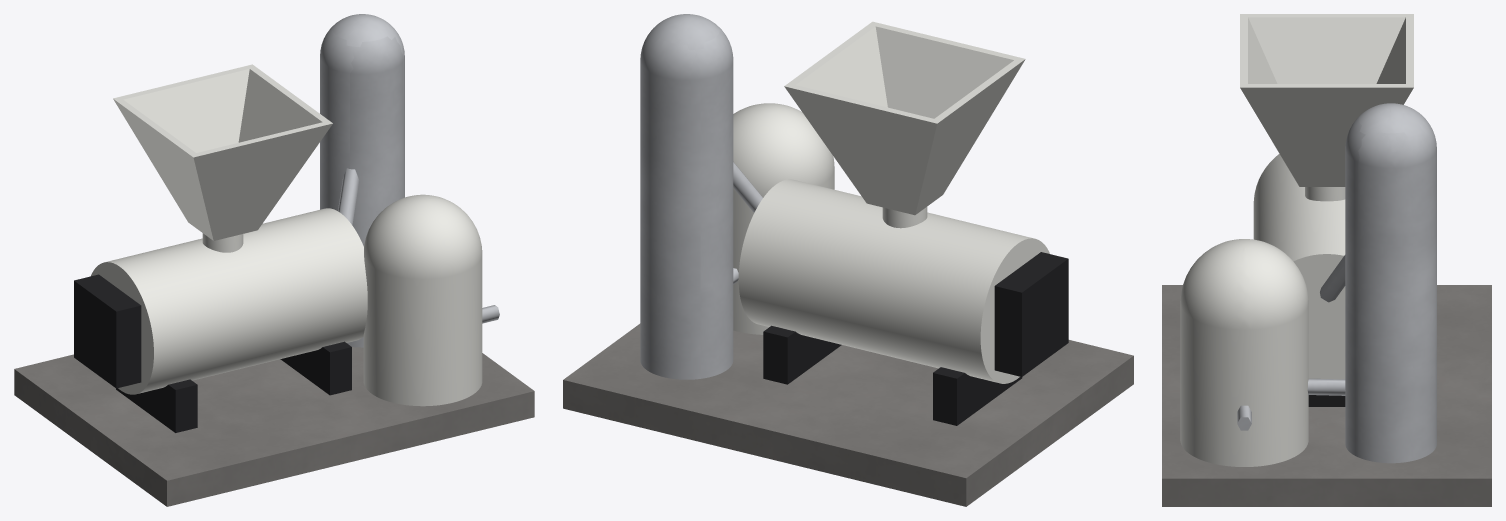
The model's file is rover09_water_extractor.glb.
The picture shows the model from 3 angles, left to right: view 1: azimuth 30°, elevation 25°; view 2: azimuth 150°, elevation 25°; view 3: azimuth 270°, elevation 25°; orthographic projection. The views are drawn at different scales.
Visible parts, largest first — view 1: skid, rotary_kiln, hopper, water_tank, condenser, drive_motor, kiln_saddles, pipes; view 2: skid, rotary_kiln, condenser, hopper, water_tank, drive_motor, kiln_saddles, pipes; view 3: condenser, skid, water_tank, hopper, rotary_kiln, pipes, kiln_saddles.
Boxes of the visible parts, bbox=[...] form: skid: bbox=[14, 347, 534, 506]; rotary_kiln: bbox=[91, 208, 367, 394]; hopper: bbox=[113, 64, 332, 252]; water_tank: bbox=[363, 194, 482, 406]; condenser: bbox=[320, 14, 404, 347]; drive_motor: bbox=[74, 274, 141, 388]; kiln_saddles: bbox=[116, 341, 351, 432]; pipes: bbox=[338, 168, 499, 323]; skid: bbox=[563, 323, 1133, 506]; rotary_kiln: bbox=[738, 179, 1049, 383]; condenser: bbox=[640, 14, 733, 379]; hopper: bbox=[784, 21, 1025, 228]; water_tank: bbox=[733, 103, 834, 334]; drive_motor: bbox=[994, 252, 1068, 376]; kiln_saddles: bbox=[763, 325, 1022, 425]; pipes: bbox=[733, 162, 762, 284]; condenser: bbox=[1345, 103, 1436, 463]; skid: bbox=[1162, 285, 1491, 506]; water_tank: bbox=[1180, 239, 1308, 466]; hopper: bbox=[1240, 14, 1413, 201]; rotary_kiln: bbox=[1253, 154, 1345, 379]; pipes: bbox=[1237, 255, 1345, 430]; kiln_saddles: bbox=[1308, 395, 1345, 406].
Size of the model in its own units: 2.5 by 2.19 by 1.8.
Materials: 4 (2 with a texture image).
